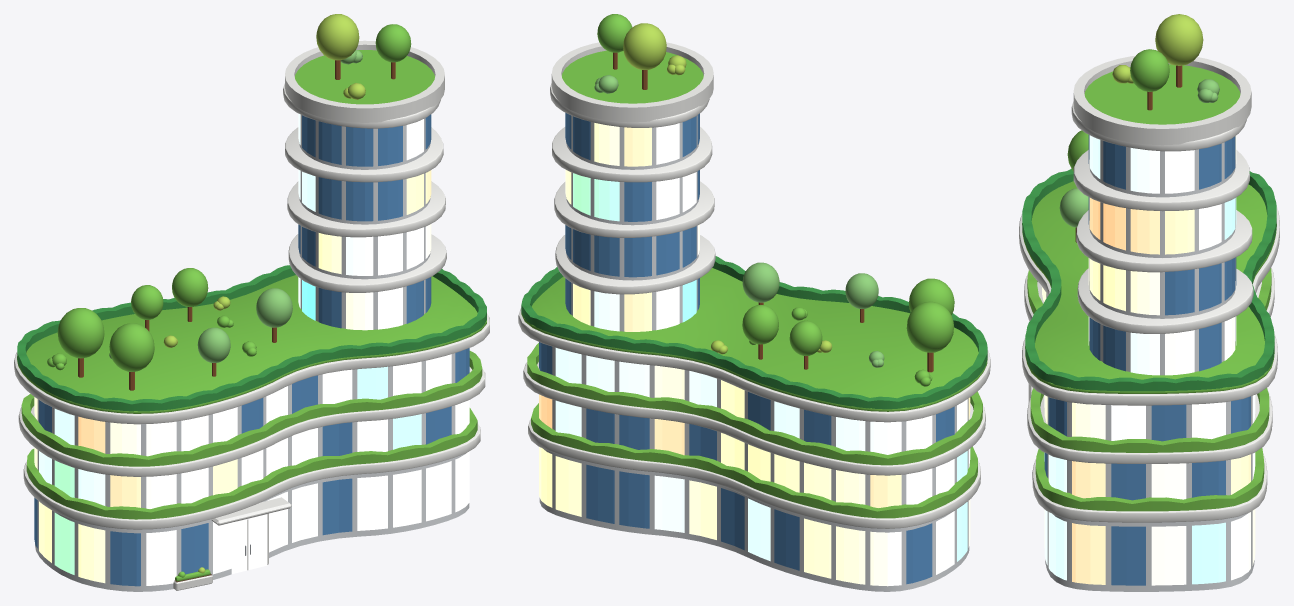
Rendered from predio_curvo_sinuoso_s.glb.
3 views of the same model, side by side, from view 1: azimuth 30°, elevation 25°; view 2: azimuth 150°, elevation 25°; view 3: azimuth 270°, elevation 25° (orthographic). The views are drawn at different scales.
Visible parts, largest first — view 1: predio_curvo_sinuoso_s; view 2: predio_curvo_sinuoso_s; view 3: predio_curvo_sinuoso_s.
Boxes of the visible parts, box(x1,y1,x2,y2) form: predio_curvo_sinuoso_s: box(14, 14, 489, 591); predio_curvo_sinuoso_s: box(518, 14, 990, 591); predio_curvo_sinuoso_s: box(1019, 14, 1279, 591).
Size of the model in its own units: 25.83 by 27.76 by 12.46.
Materials: 7 (1 with a texture image).
